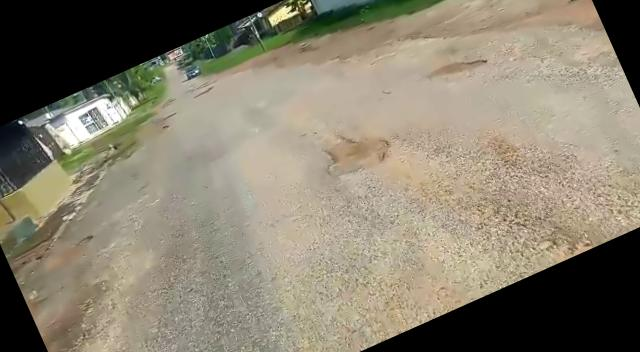pothole: (317, 118, 396, 184), (426, 42, 494, 88)
